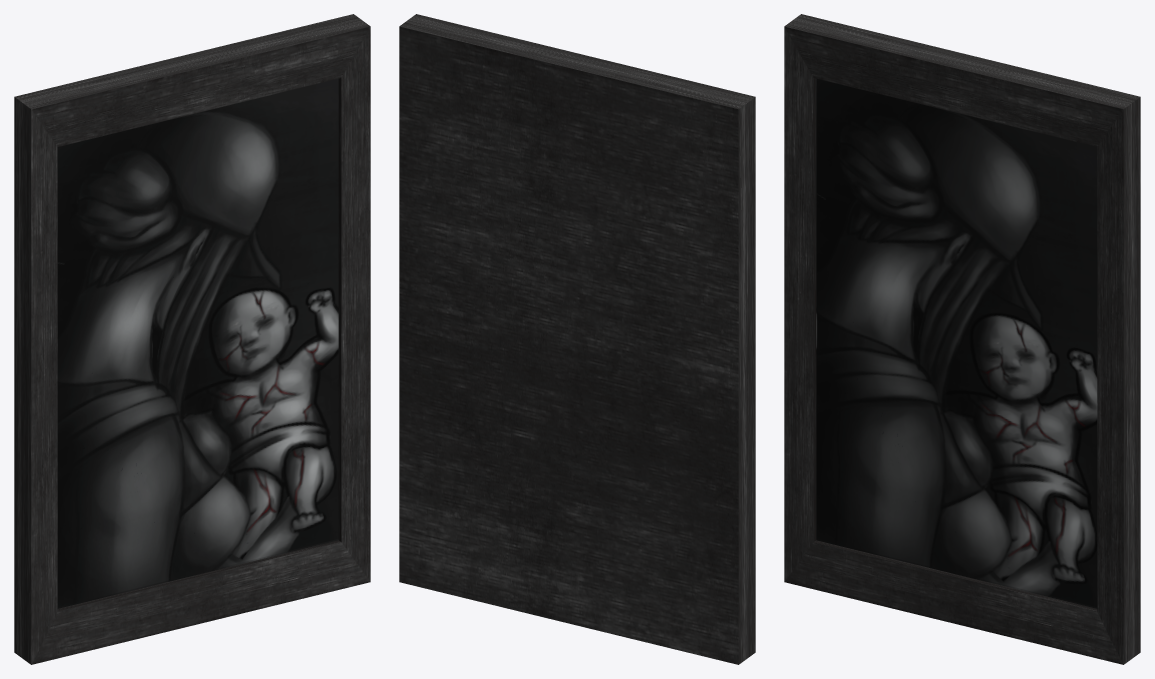
The model's file is painting_main_4.fbx.
3 renders of one model, left to right at view 1: azimuth 30°, elevation 25°; view 2: azimuth 150°, elevation 25°; view 3: azimuth 330°, elevation 25°, orthographic.
Visible parts, largest first — view 1: painting_Var3.004; view 2: painting_Var3.004; view 3: painting_Var3.004.
Boxes of the visible parts, left/top/right/bottom form: painting_Var3.004: left=14, top=14, right=370, bottom=664; painting_Var3.004: left=399, top=14, right=755, bottom=664; painting_Var3.004: left=784, top=14, right=1140, bottom=664.
Bounding box in the file's own units: 59.07 × 92.39 × 5.15.
1 material, 1 textured.
